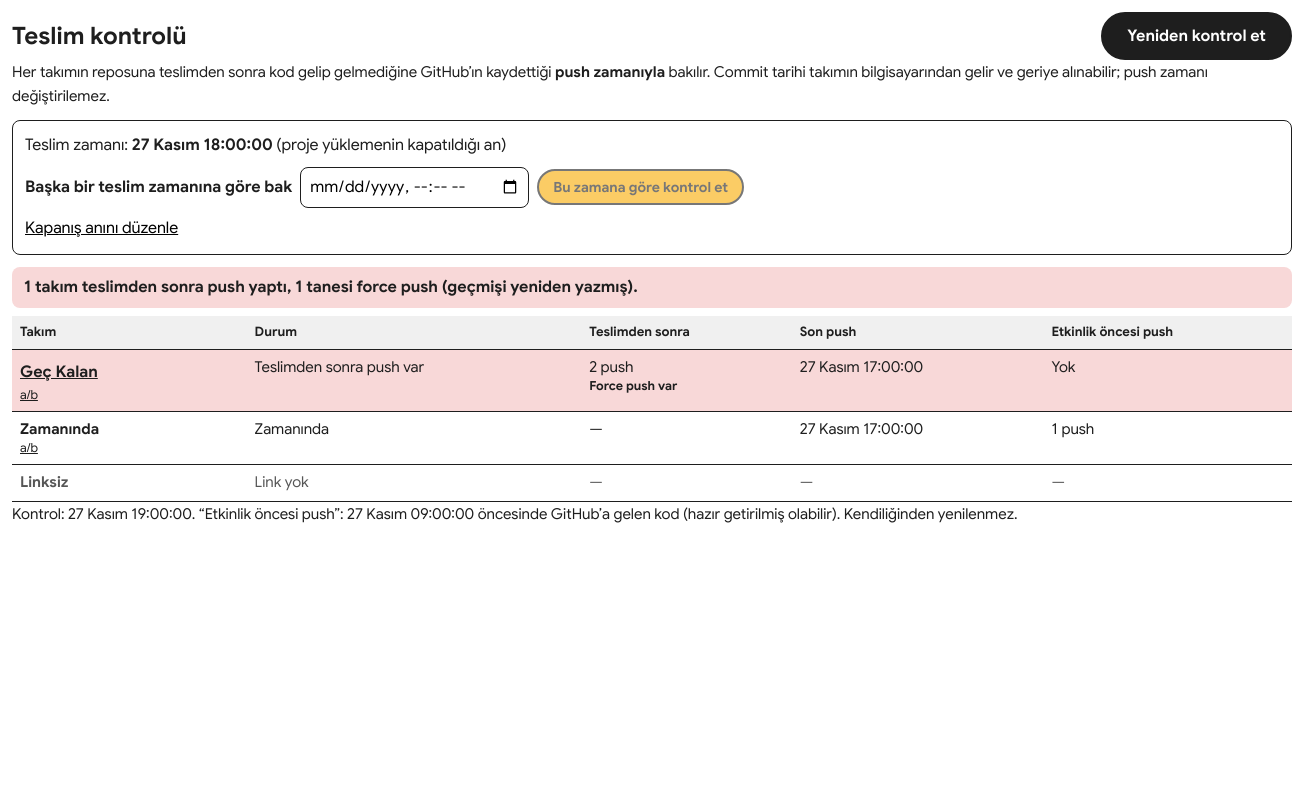
Teslim kontrolü › kapanış anına göre teslimden sonra push yapanları gösterir, ayrıntıda push listesi açılır
Expected: the text "1 takım teslimden sonra push yaptı, 1 tanesi force push" is shown, [24,277,638,297]
Expected: the text "proje yüklemenin kapatıldığı an" is shown, [273,135,506,155]
Click the button "Geç Kalan": (59,373) [20,358,98,387]
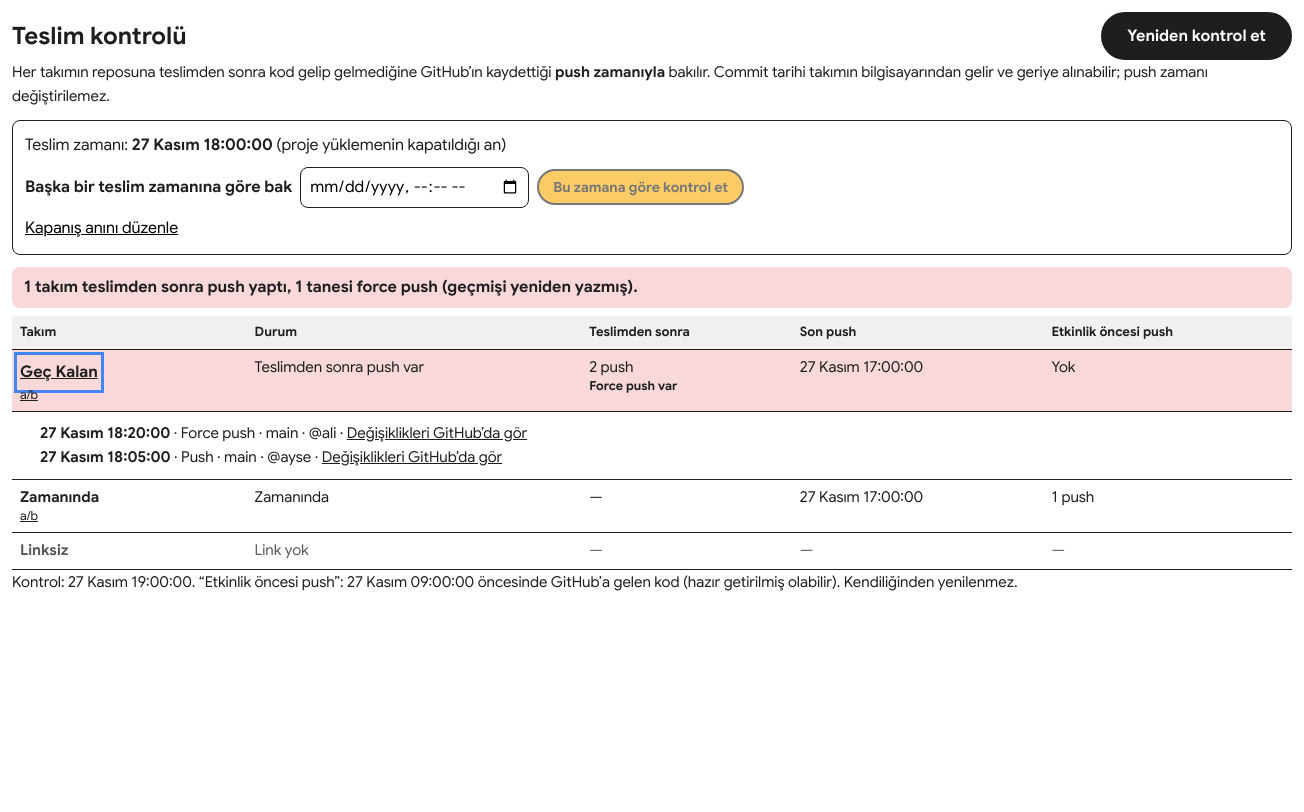
Expected: the number of links "Değişiklikleri GitHub’da gör" is 2, [347,424,527,442]; [322,448,502,466]
Expected: the list item "Force push · main · @ali" is shown, [40,424,527,442]
